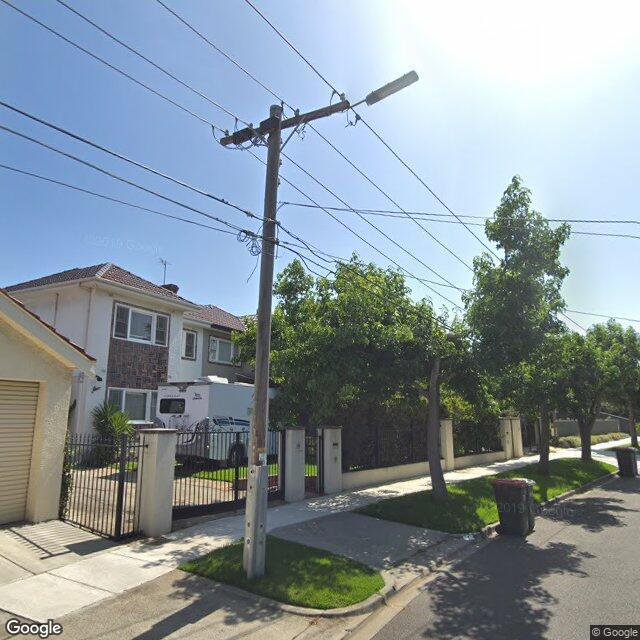crossarm: (211, 90, 361, 152)
streetlight: (349, 68, 419, 110)
timber-pole: (244, 103, 282, 578)
